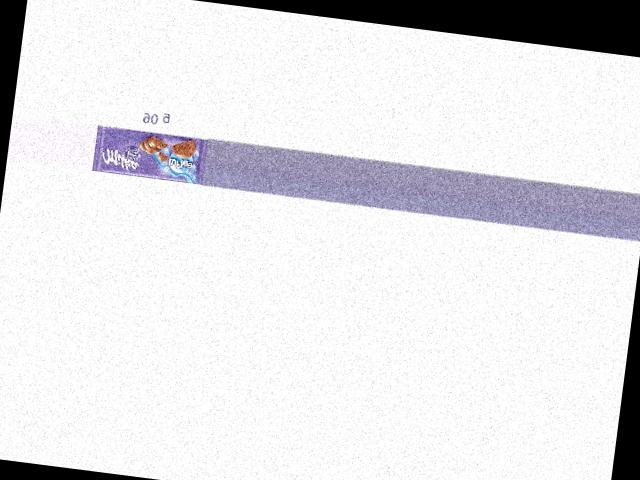chocolate: (94, 125, 209, 185)
